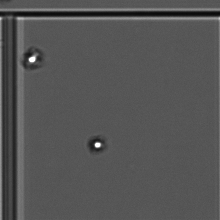Living Cell: (20, 45, 55, 79), (85, 131, 111, 163)
